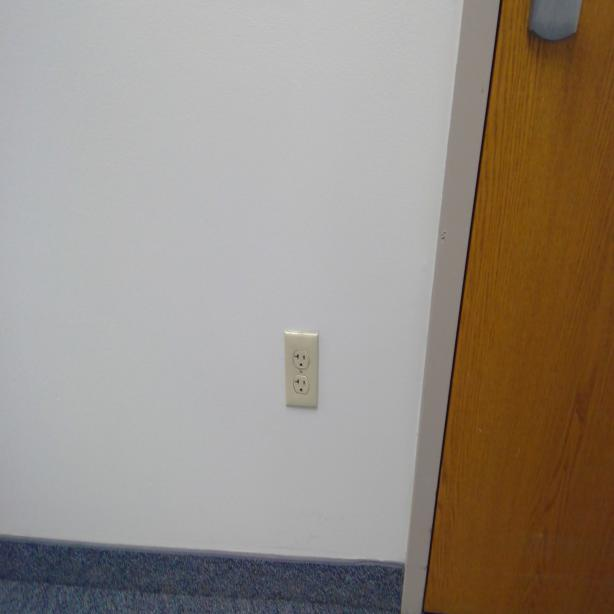typeb: (293, 348, 309, 373), (294, 377, 309, 396)
